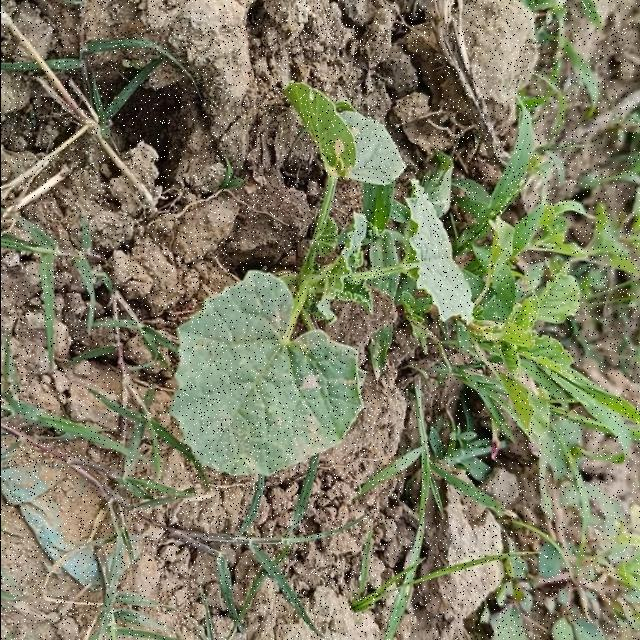plant: (170, 83, 471, 475)
